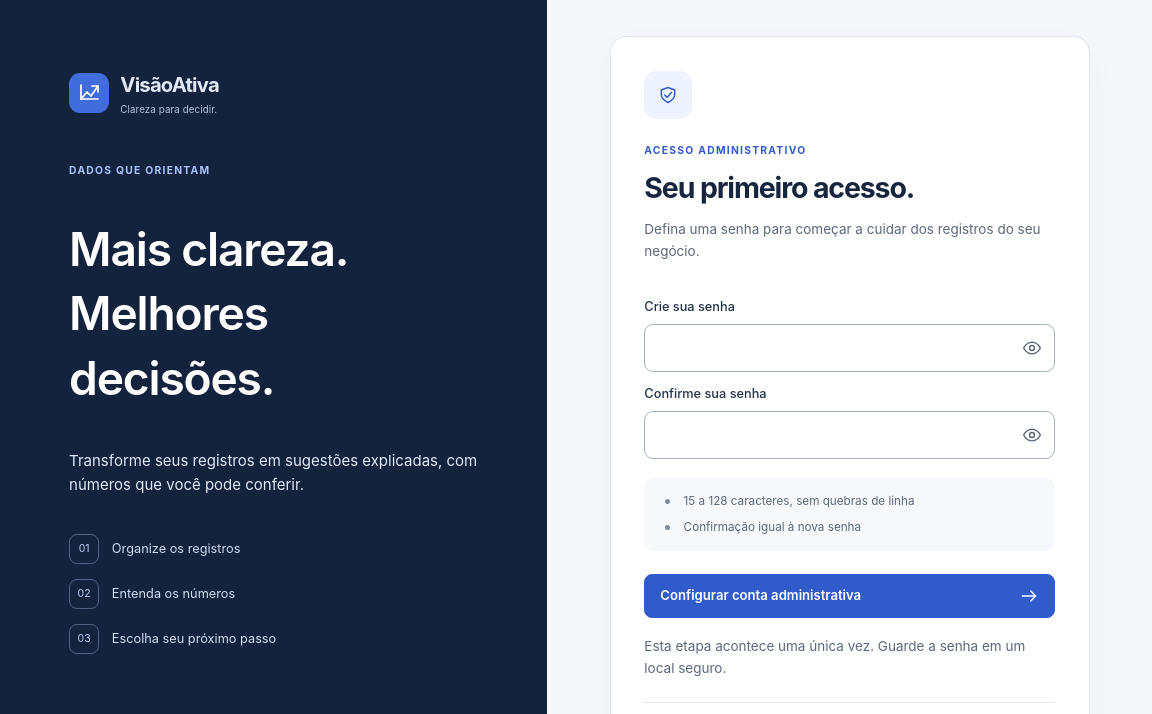
Test: configuração da conta administrativa › permite revelar, impede envio duplicado e limpa segredos após sucesso
This screenshot has width=1152, height=714.
Type "frase sintética de configuração 123" into the password field with id "setup-password" at (828, 348), box top-left (645, 325), bottom-right (1010, 371)
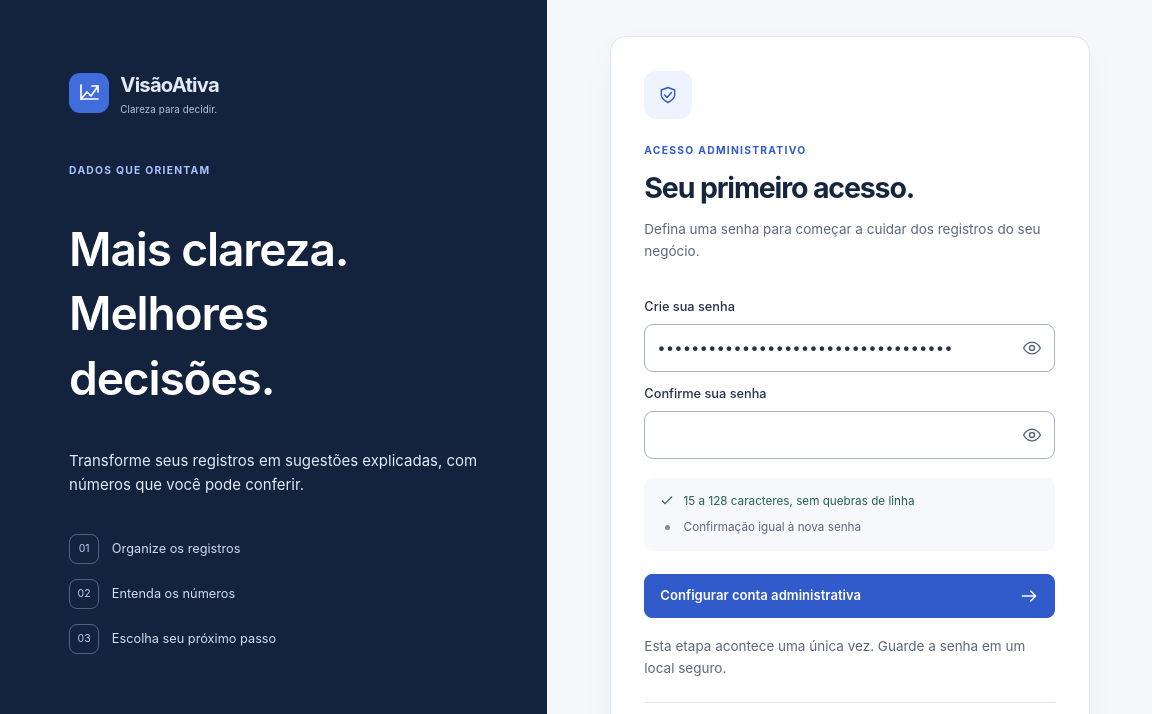
Type "frase sintética de configuração 123" into the password field with id "setup-confirmation" at (828, 435), box top-left (645, 412), bottom-right (1010, 458)
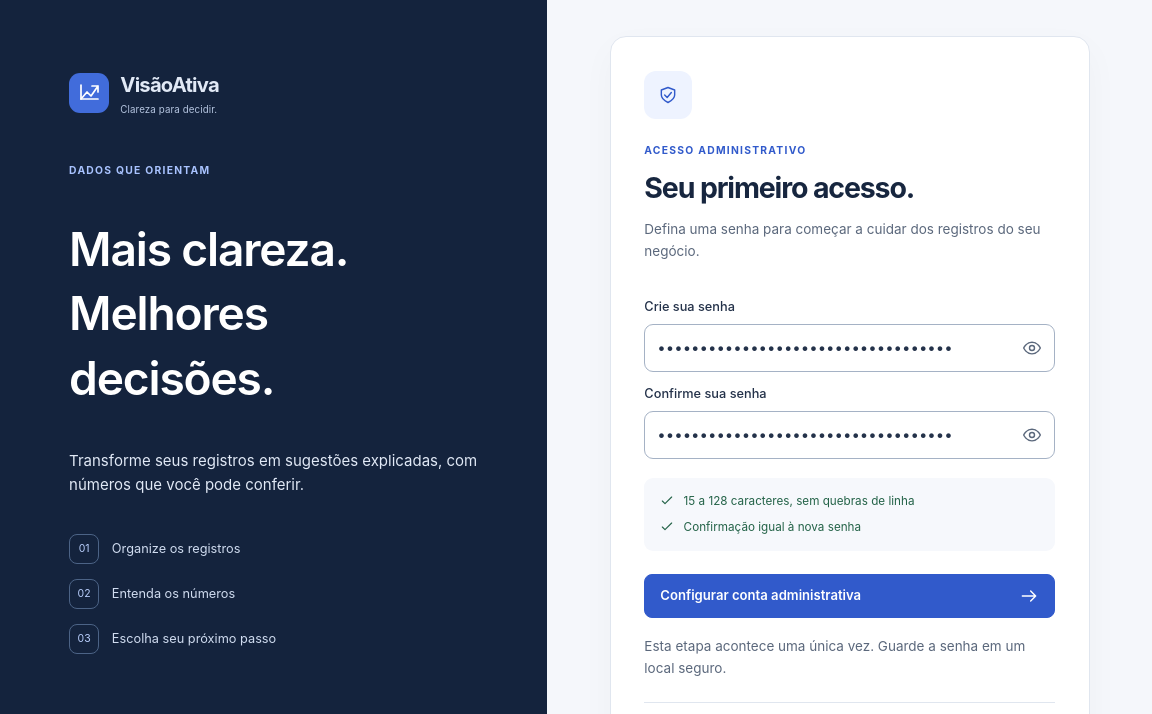
Click the button named "Mostrar senha" at (1032, 348), box top-left (1010, 326), bottom-right (1054, 370)
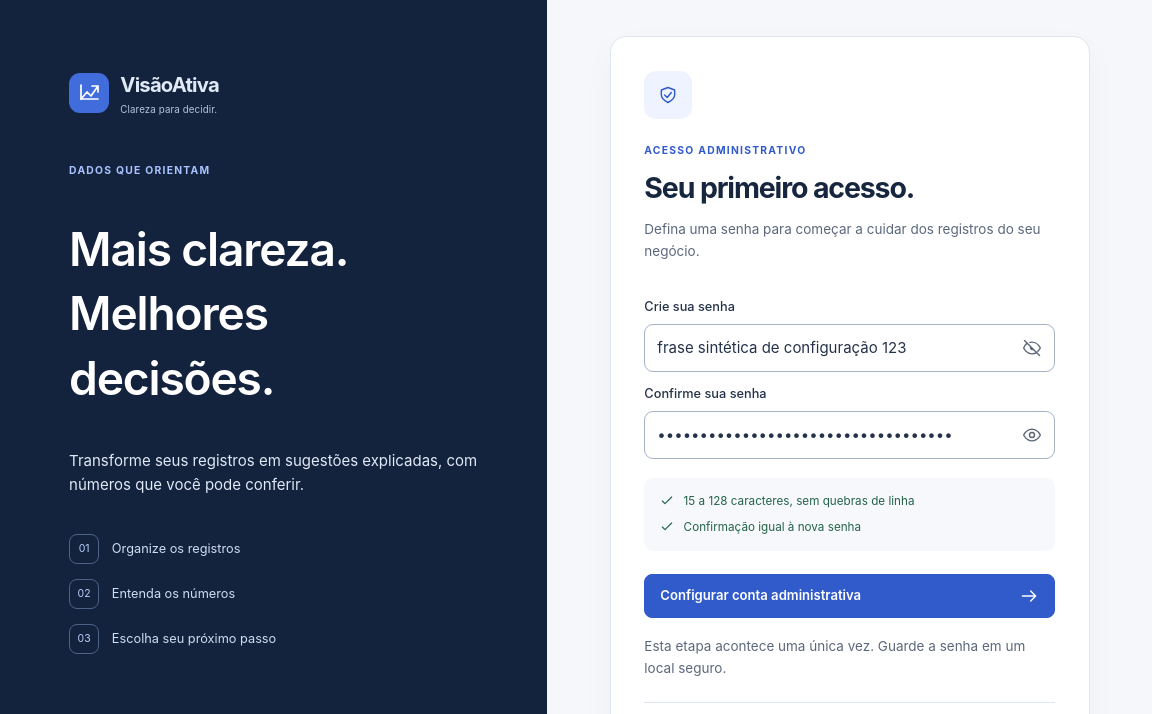
Submit the form, box top-left (644, 285), bottom-right (1055, 618)
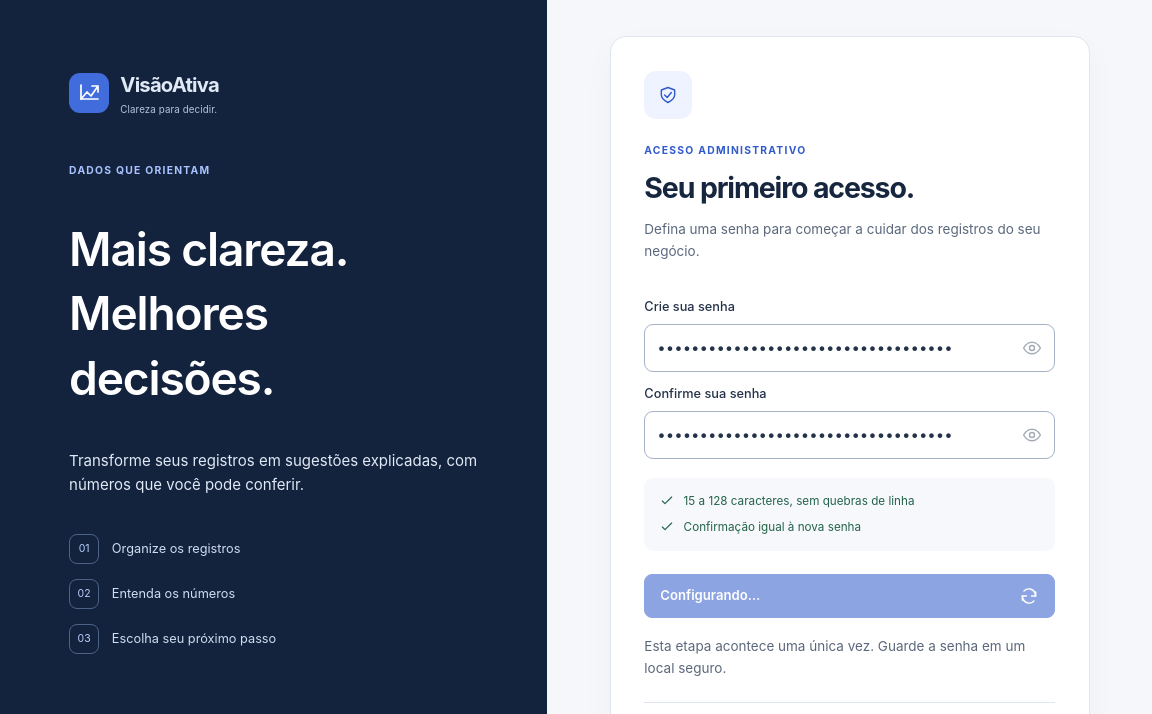
Submit the form, box top-left (644, 285), bottom-right (1055, 618)
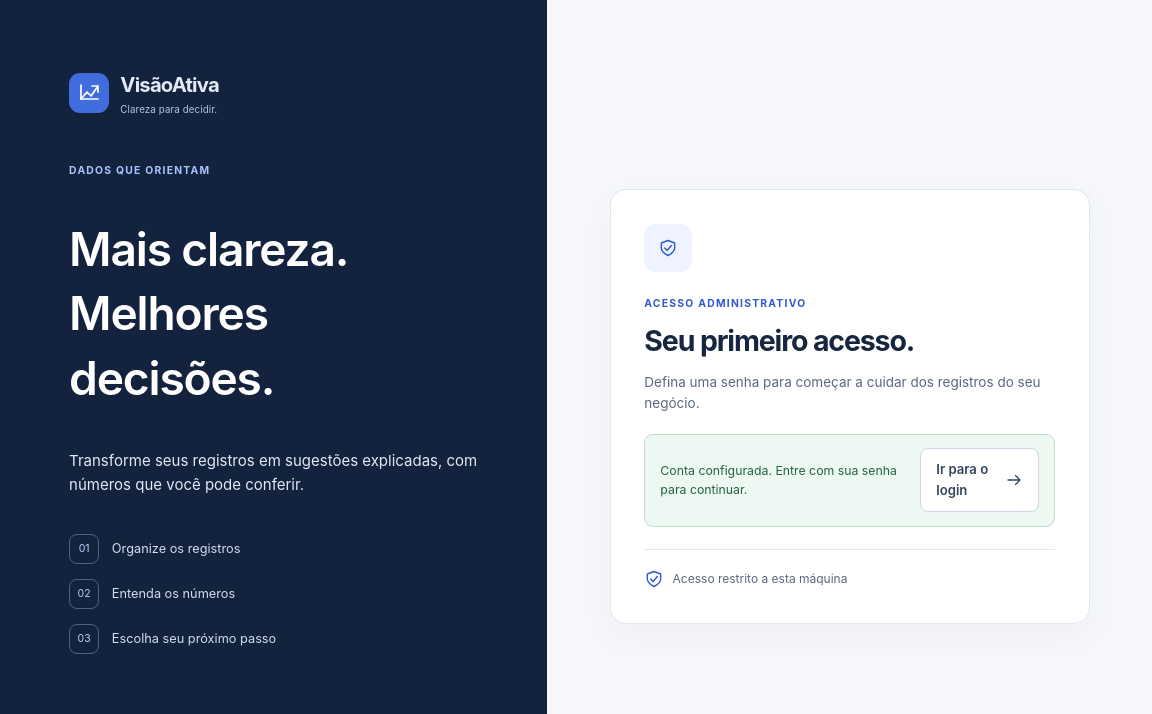
Result: the message "Conta configurada. Entre com sua senha para continuar. Ir para o login" is shown at top-left (644, 434), bottom-right (1055, 527)
Result: the link with class "secondary-link" reads "Ir para o login" at top-left (920, 448), bottom-right (1039, 512)
